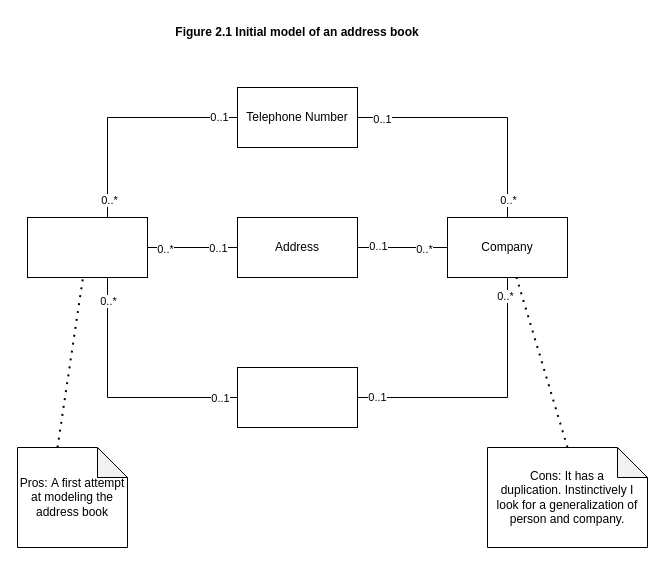
Some shapes in this 665 by 565 pixel diagram are drawn without their labels. Here are the shapes that lost their labels. From the top down, the centre of each, then its label:
At point 87,247: "Person".
At point 297,397: "E-mail Address".
